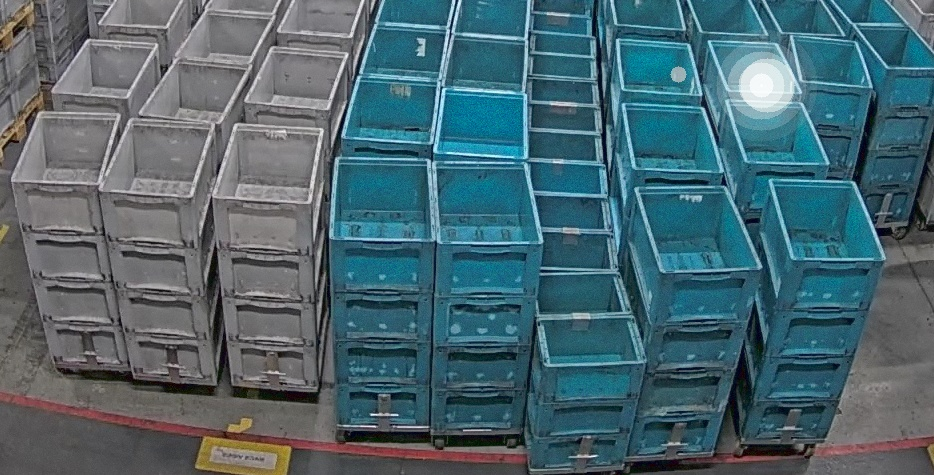4G: (97, 117, 225, 382), (210, 122, 329, 389), (9, 110, 130, 371)
B4: (732, 177, 890, 440), (622, 184, 764, 457), (431, 159, 546, 432), (327, 155, 436, 429), (785, 34, 875, 182)
B8: (524, 270, 648, 471)
